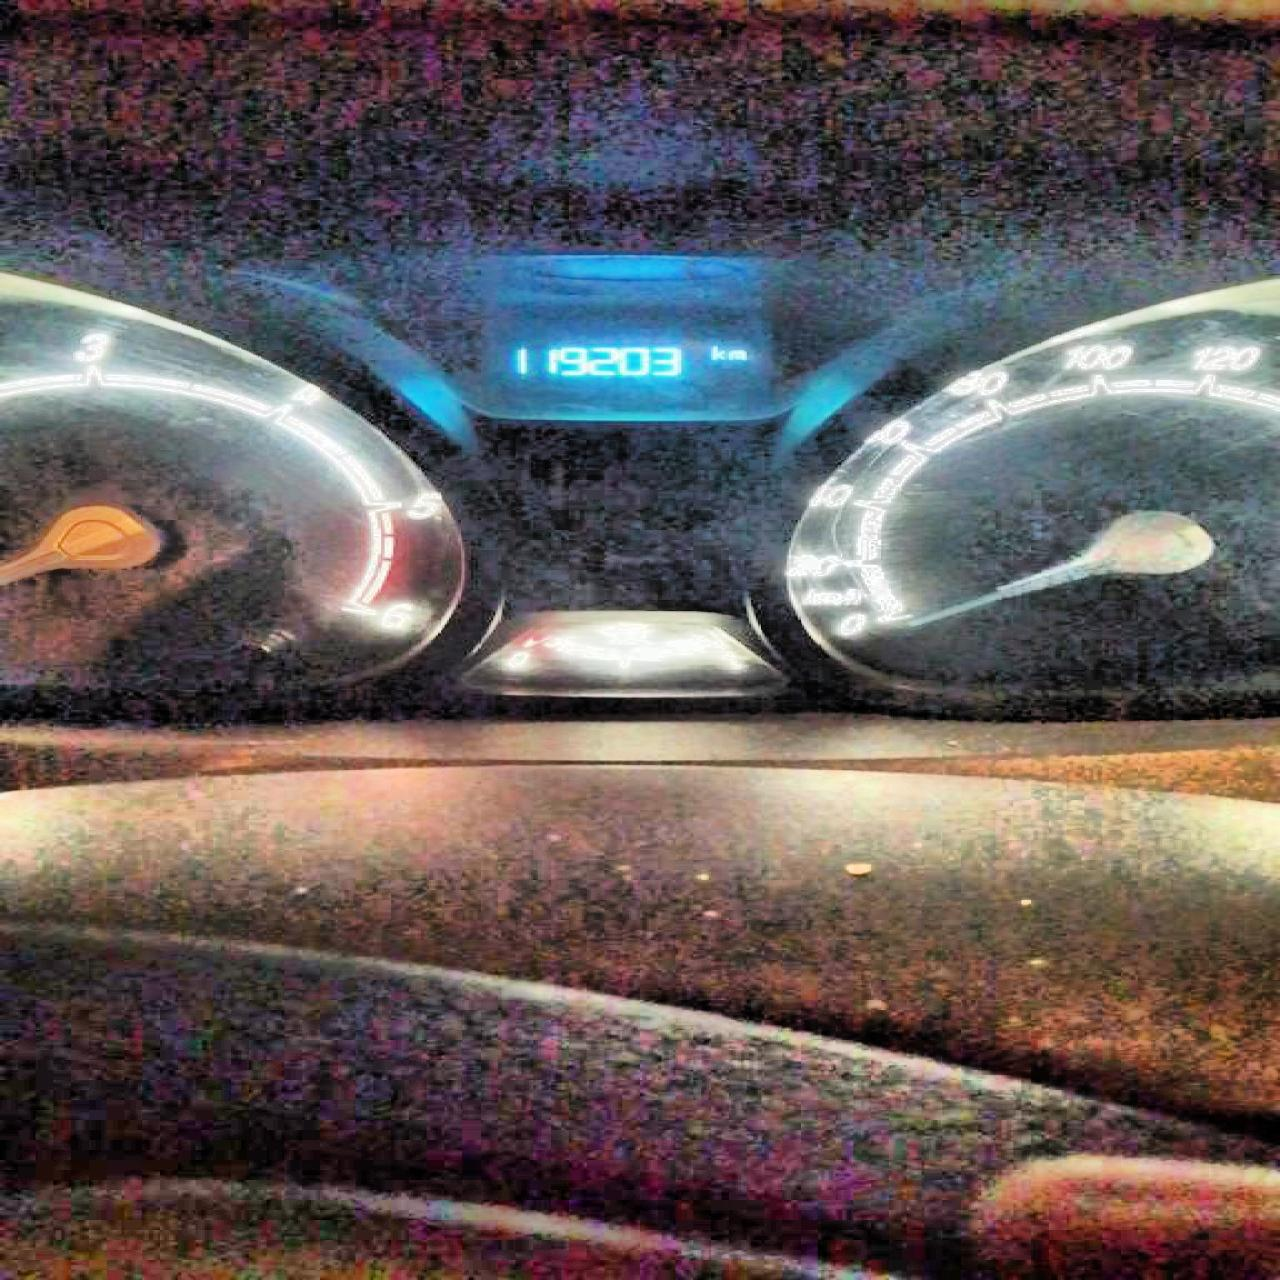0: (615, 345, 648, 375)
1: (513, 343, 526, 374), (545, 346, 556, 374)
2: (586, 343, 615, 376)
3: (651, 345, 680, 375)
9: (558, 345, 584, 375)
X: (709, 342, 724, 360), (724, 348, 747, 360)
odometer: (476, 326, 761, 390)
